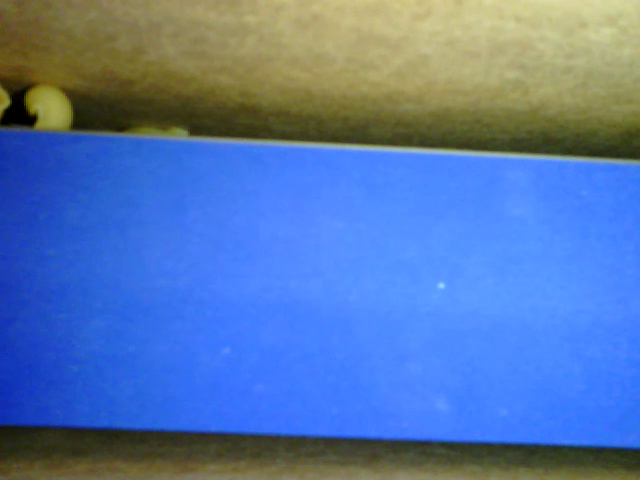shell: (18, 84, 75, 130)
